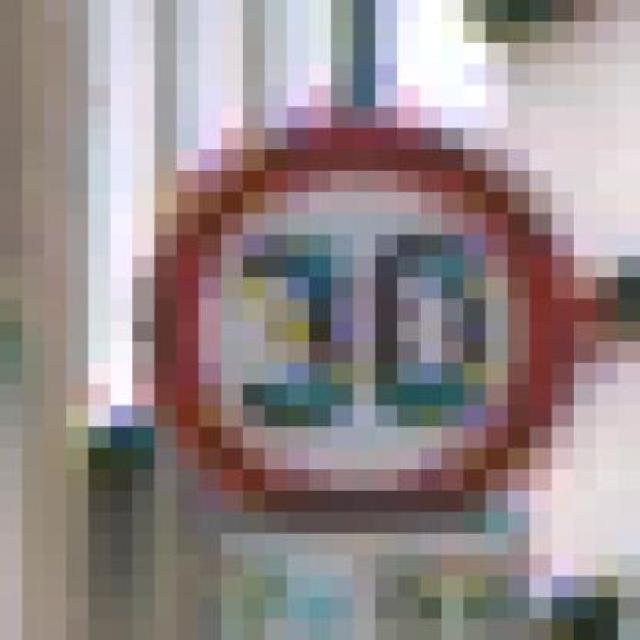Speed Limit 30 KMPh: (66, 107, 619, 576)
